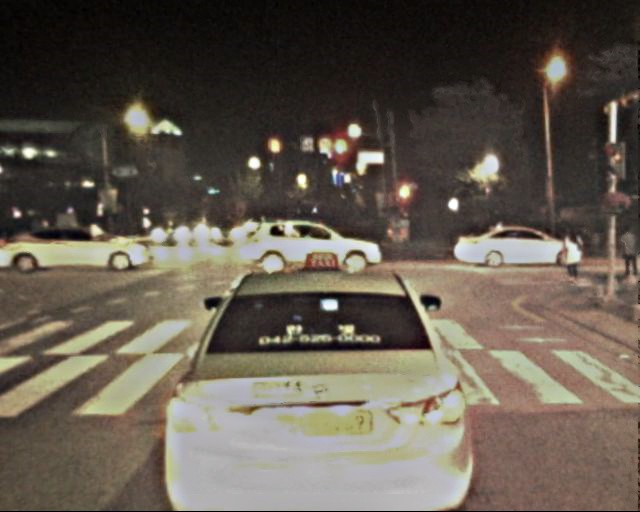person: (617, 227, 639, 285), (563, 227, 586, 281)
